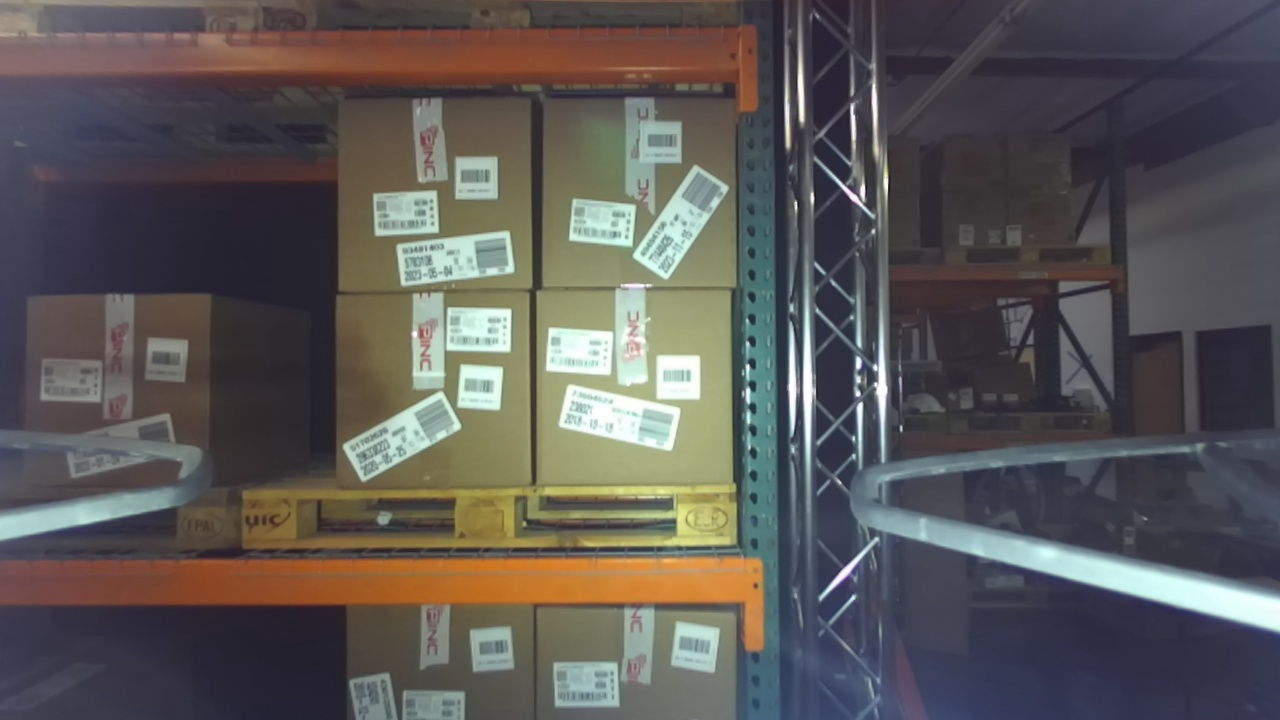box: (505, 64, 753, 312), (507, 264, 749, 514), (312, 72, 556, 317), (323, 279, 558, 515), (8, 280, 224, 511)
